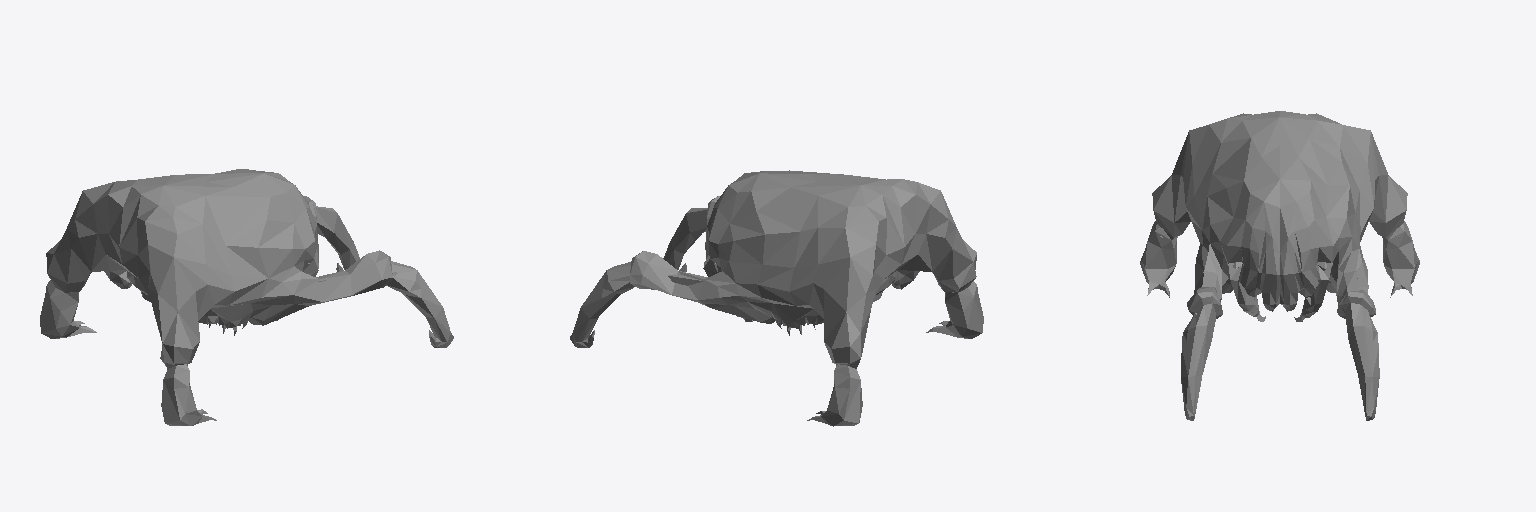
The model's file is headcrabclassic.obj.
3 views of the same model, side by side, from view 1: azimuth 30°, elevation 25°; view 2: azimuth 150°, elevation 25°; view 3: azimuth 270°, elevation 25° (orthographic).
Visible parts, largest first — view 1: (null) Mesh; view 2: (null) Mesh; view 3: (null) Mesh.
Part boxes in pixels (left/top/right/bottom): (null) Mesh: left=40, top=169, right=453, bottom=425; (null) Mesh: left=570, top=170, right=983, bottom=426; (null) Mesh: left=1140, top=111, right=1419, bottom=420.
Size of the model in its own units: 25.67 by 14.94 by 20.36.